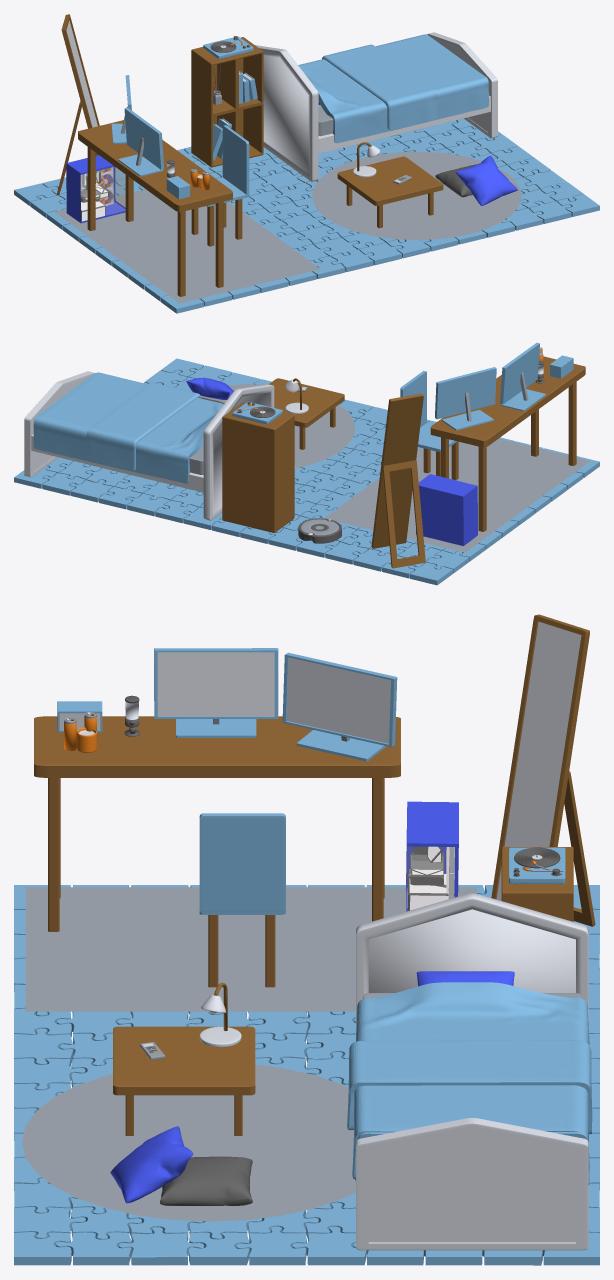
Rendered from Room.glb.
The picture shows the model from 3 angles, top to bottom: view 1: azimuth 30°, elevation 25°; view 2: azimuth 150°, elevation 25°; view 3: azimuth 270°, elevation 25°; orthographic projection. The views are drawn at different scales.
Visible parts, largest first — view 1: pazzle, carpet2, carpet1, bed, bedOn, shelf, desk2, bedOff, desk, chiar, pc, monitor1 (+8 smaller); view 2: pazzle, carpet2, shelf, bedOn, mirror, bedOff, bed, desk2, pc, monitor2, carpet1, desk (+7 smaller); view 3: pazzle, bed, carpet2, carpet1, bedOn, desk2, mirror, bedOff, chiar, monitor1, desk, monitor2 (+8 smaller).
Boxes of the visible parts, <box> form: pazzle: <box>14,118,599,313</box>; carpet2: <box>54,189,320,303</box>; carpet1: <box>312,151,521,239</box>; bed: <box>255,32,497,181</box>; bedOn: <box>322,34,487,131</box>; shelf: <box>191,37,263,167</box>; desk2: <box>78,120,232,296</box>; bedOff: <box>298,34,488,143</box>; desk: <box>337,156,443,228</box>; chiar: <box>191,125,249,246</box>; pc: <box>66,155,125,223</box>; monitor1: <box>118,107,164,176</box>; pazzle: <box>14,358,599,585</box>; carpet2: <box>324,438,589,552</box>; shelf: <box>222,402,294,532</box>; bedOn: <box>37,372,200,470</box>; mirror: <box>371,393,425,568</box>; bedOff: <box>33,373,223,483</box>; bed: <box>24,371,274,520</box>; desk2: <box>430,356,585,531</box>; pc: <box>416,474,477,545</box>; monitor2: <box>435,367,496,430</box>; carpet1: <box>201,384,354,468</box>; desk: <box>269,378,344,449</box>; pazzle: <box>14,885,599,1265</box>; bed: <box>356,893,588,1250</box>; carpet2: <box>25,887,476,1011</box>; carpet1: <box>22,1064,355,1221</box>; bedOn: <box>347,1039,592,1178</box>; desk2: <box>34,716,400,931</box>; mirror: <box>491,614,595,926</box>; bedOff: <box>355,982,589,1184</box>; chiar: <box>199,813,285,987</box>; monitor1: <box>154,648,278,737</box>; desk: <box>113,1026,255,1135</box>; monitor2: <box>282,652,397,761</box>.
Size of the model in its own units: 4.5 by 1.74 by 3.
